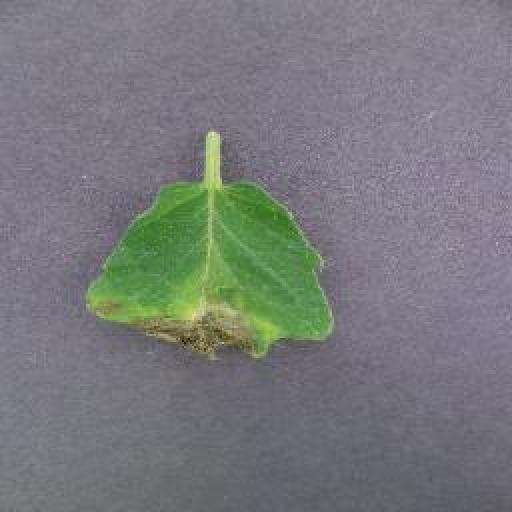disease_tomato: (88, 173, 341, 364)
